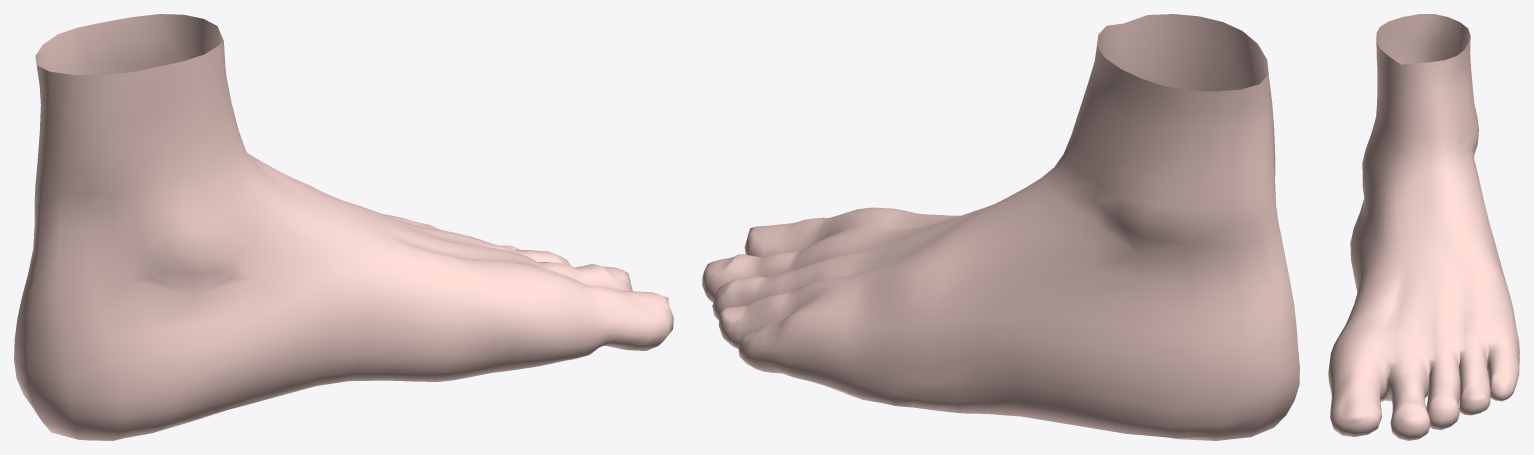
The model's file is Left Feet.gltf.
3 renders of one model, left to right at view 1: azimuth 30°, elevation 25°; view 2: azimuth 150°, elevation 25°; view 3: azimuth 270°, elevation 25°, orthographic. The views are drawn at different scales.
Parts seen in each view (by area): view 1: leg.001; view 2: leg.001; view 3: leg.001.
Boxes of the visible parts, bbox=[...] form: leg.001: bbox=[14, 14, 673, 440]; leg.001: bbox=[702, 14, 1299, 440]; leg.001: bbox=[1328, 14, 1519, 440].
Size of the model in its own units: 2.69 by 1.64 by 1.12.
